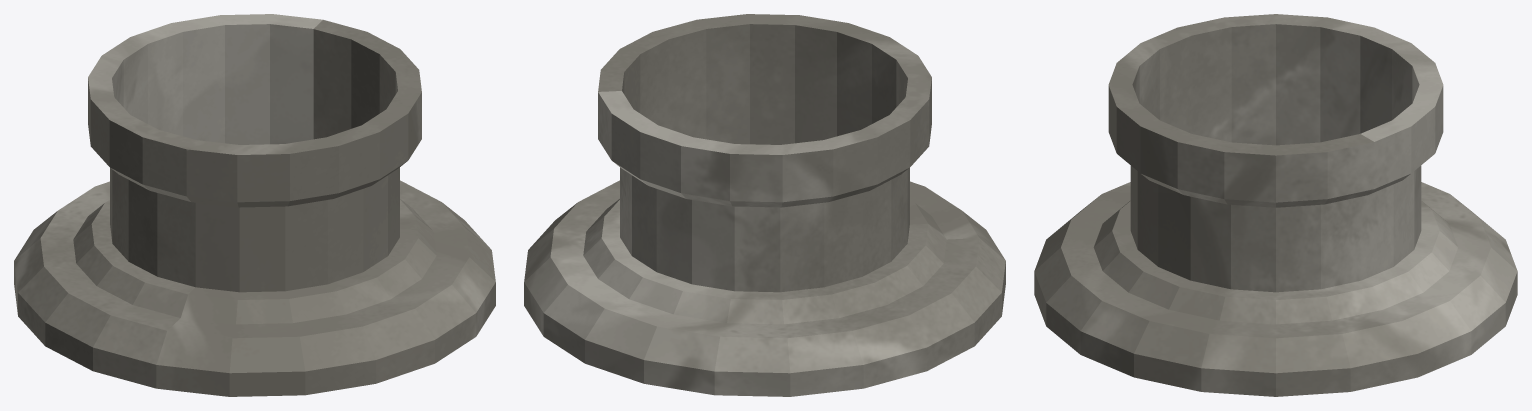
File: Magic_Basin.fbx
3 renders of one model, left to right at view 1: azimuth 30°, elevation 25°; view 2: azimuth 150°, elevation 25°; view 3: azimuth 270°, elevation 25°, orthographic.
Visible parts, largest first — view 1: Magic_Basin; view 2: Magic_Basin; view 3: Magic_Basin.
Boxes of the visible parts, <box> form: Magic_Basin: <box>14,14,495,396</box>; Magic_Basin: <box>524,14,1005,396</box>; Magic_Basin: <box>1034,14,1517,396</box>.
Bounding box in the file's own units: 2.65 × 1.27 × 2.65.
